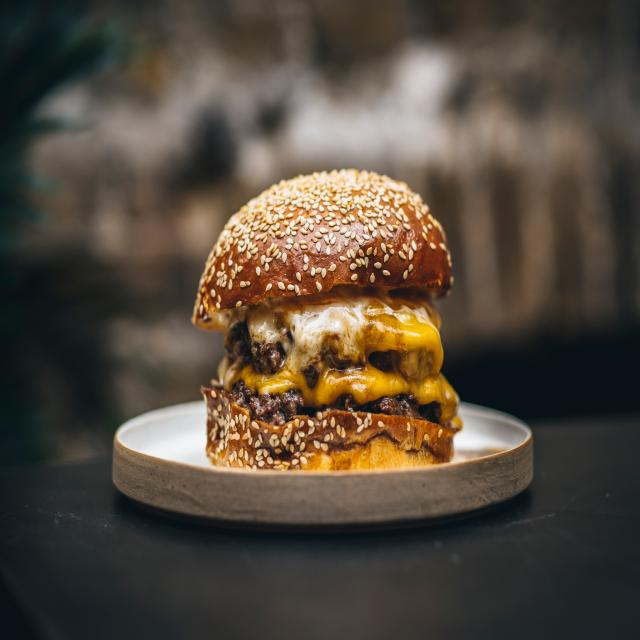burger: (191, 167, 455, 472)
